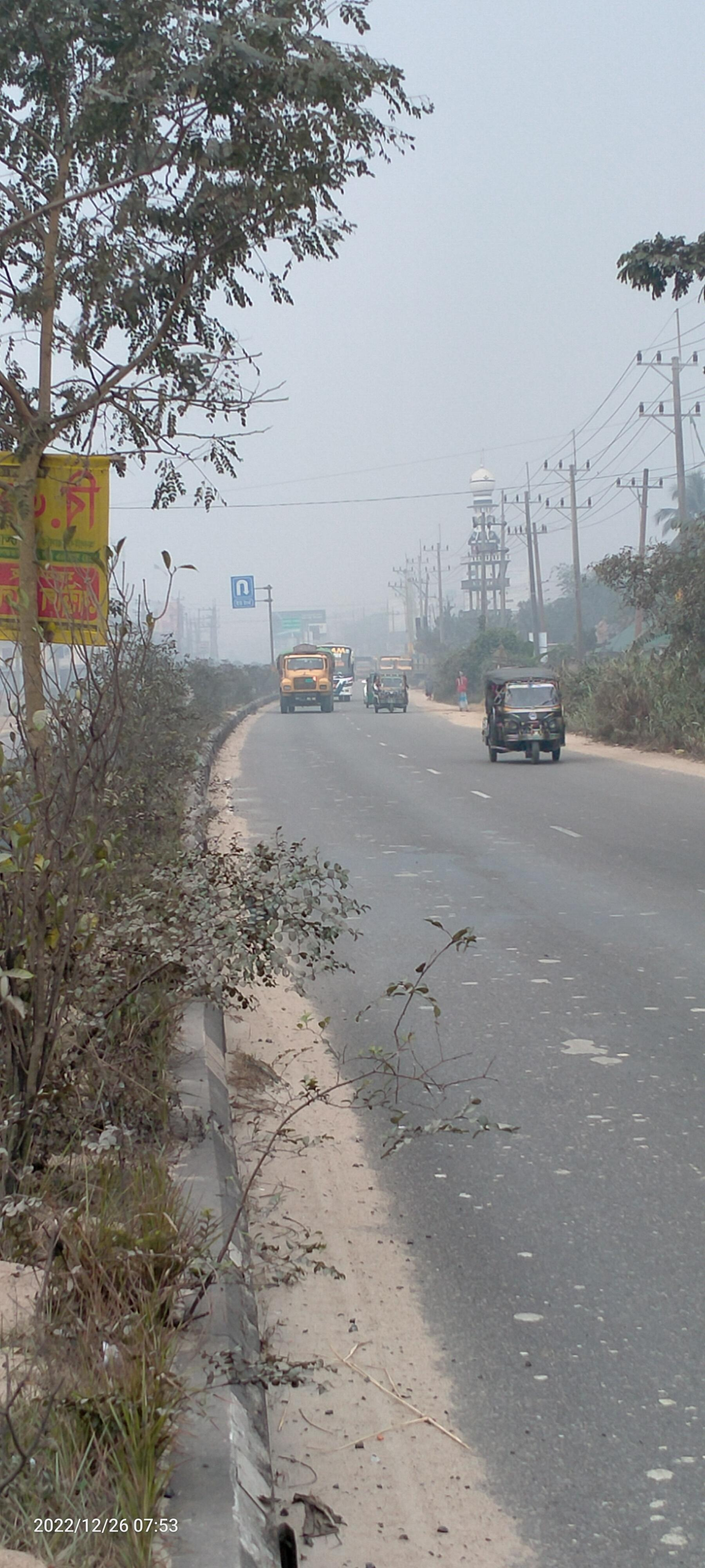Bus: (324, 641, 359, 706)
Truck: (273, 640, 340, 717)
